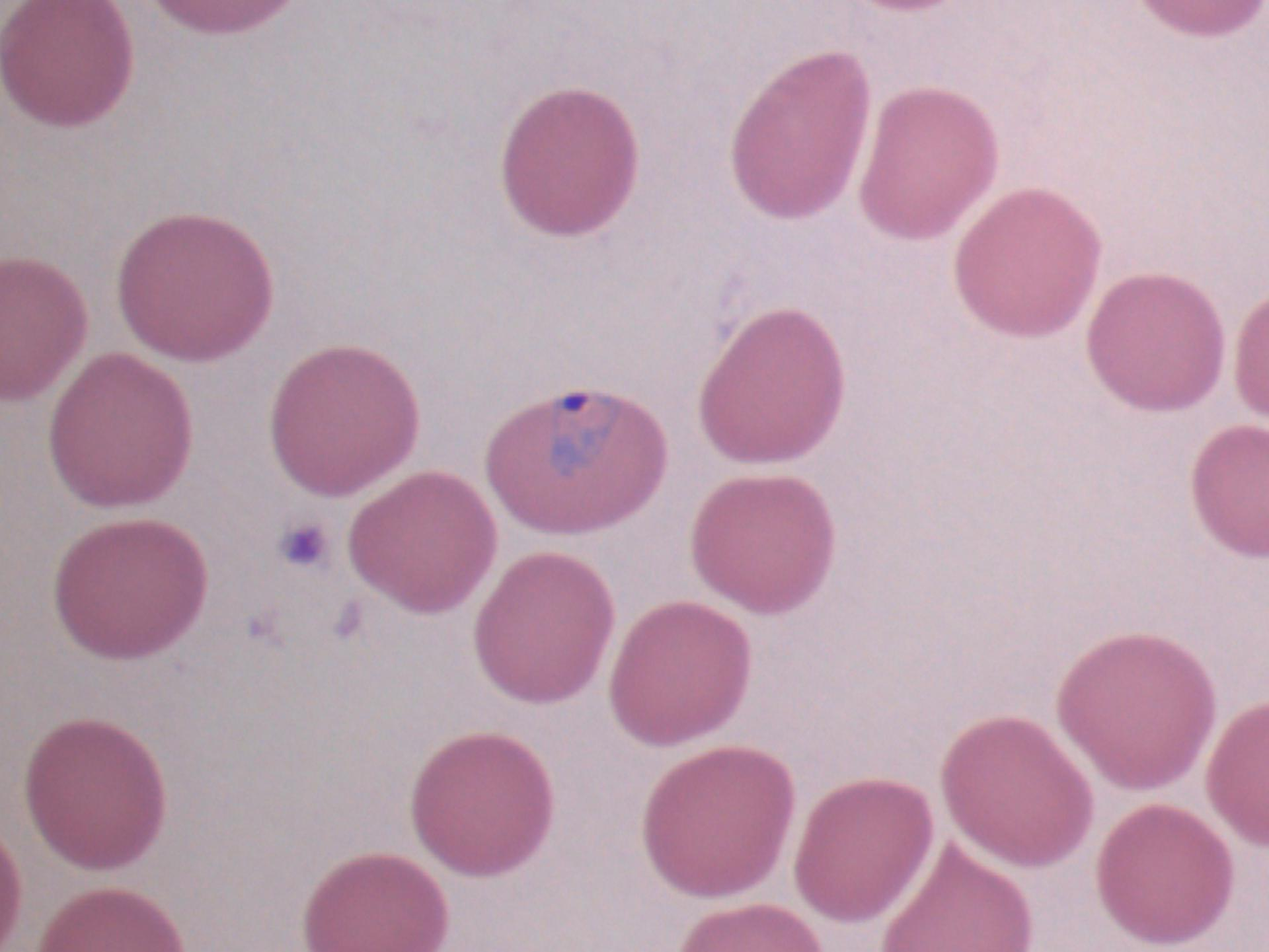Infected: (601, 418, 784, 562)
Uninfected: (52, 165, 208, 311), (427, 483, 570, 638), (849, 456, 997, 603), (399, 735, 535, 894), (179, 88, 329, 231), (476, 57, 623, 201), (997, 595, 1145, 735), (1063, 293, 1211, 429), (1079, 445, 1215, 592), (272, 717, 408, 863), (170, 620, 313, 757), (518, 207, 657, 347), (338, 32, 479, 170), (716, 76, 856, 214), (656, 250, 792, 391), (631, 717, 765, 860), (1104, 84, 1237, 227), (775, 338, 914, 474), (436, 338, 576, 473), (42, 540, 182, 673), (39, 10, 173, 143), (1130, 825, 1264, 948), (243, 3, 381, 103), (826, 1, 963, 91), (2, 396, 77, 521)
